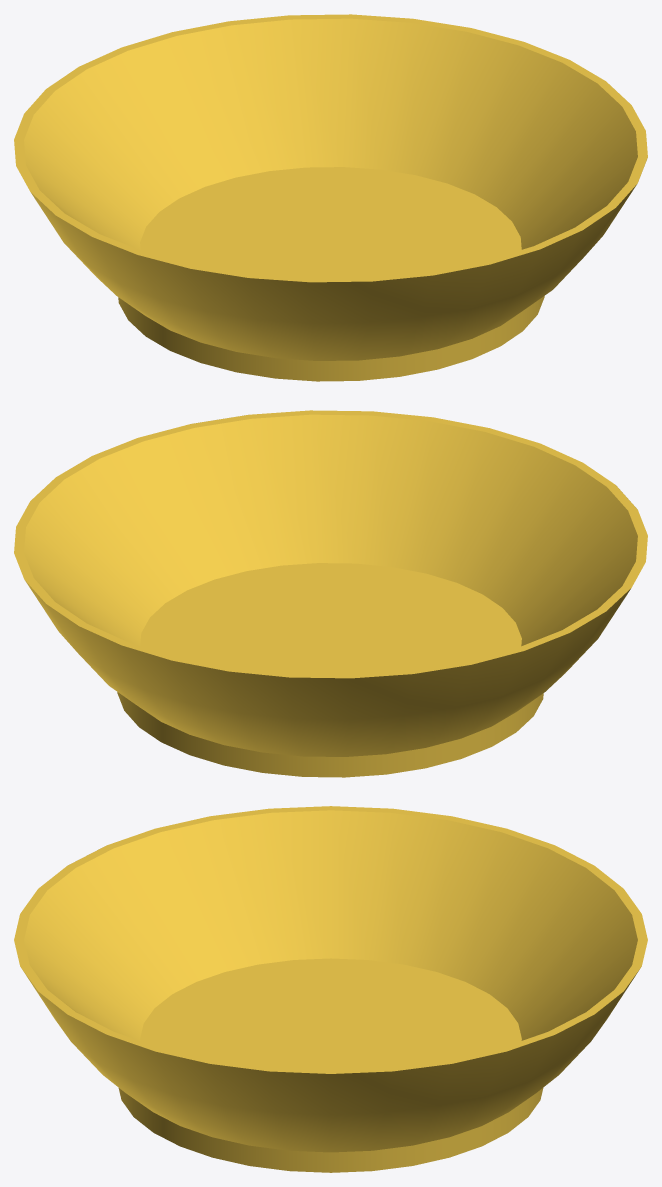
Rendered from Kitchen Bowl.006.fbx.
3 renders of one model, top to bottom at view 1: azimuth 30°, elevation 25°; view 2: azimuth 150°, elevation 25°; view 3: azimuth 270°, elevation 25°, orthographic.
Visible parts, largest first — view 1: Kitchen Bowl.006_Baked; view 2: Kitchen Bowl.006_Baked; view 3: Kitchen Bowl.006_Baked.
Boxes of the visible parts, left/top/right/bottom form: Kitchen Bowl.006_Baked: left=14, top=14, right=647, bottom=381; Kitchen Bowl.006_Baked: left=14, top=410, right=647, bottom=777; Kitchen Bowl.006_Baked: left=14, top=806, right=647, bottom=1172.
Size of the model in its own units: 19.68 by 4.88 by 19.68.
Materials: 1 (1 with a texture image).
